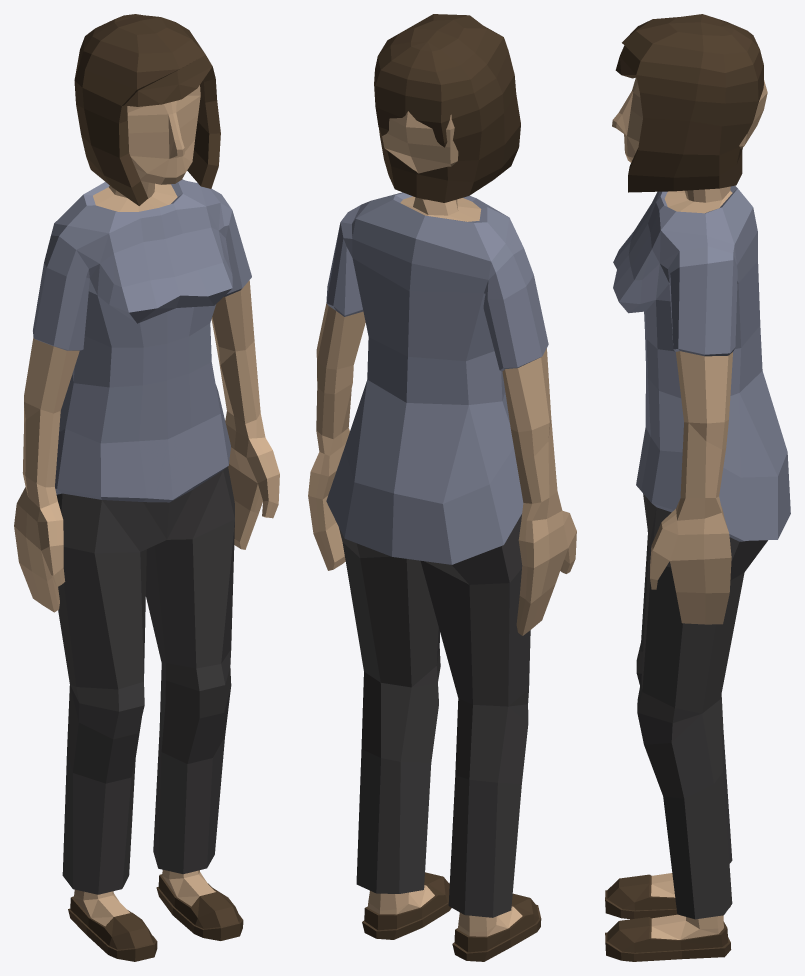
Rendered from worker-woman.glb.
The picture shows the model from 3 angles, left to right: view 1: azimuth 30°, elevation 25°; view 2: azimuth 150°, elevation 25°; view 3: azimuth 270°, elevation 25°; orthographic projection.
Parts seen in each view (by area): view 1: Female_Standing_Cylinder.007, Female_Hairstyle_1_Cylinder.003; view 2: Female_Standing_Cylinder.007, Female_Hairstyle_1_Cylinder.003; view 3: Female_Standing_Cylinder.007, Female_Hairstyle_1_Cylinder.003.
Boxes of the visible parts, x1,y1,x2,y2 form: Female_Standing_Cylinder.007: (14,85,279,961); Female_Hairstyle_1_Cylinder.003: (74,14,220,205); Female_Standing_Cylinder.007: (308,111,576,961); Female_Hairstyle_1_Cylinder.003: (374,14,520,202); Female_Standing_Cylinder.007: (605,77,790,961); Female_Hairstyle_1_Cylinder.003: (615,14,763,192).
Bounding box in the file's own units: 0.4706 × 1.75 × 0.3247.
